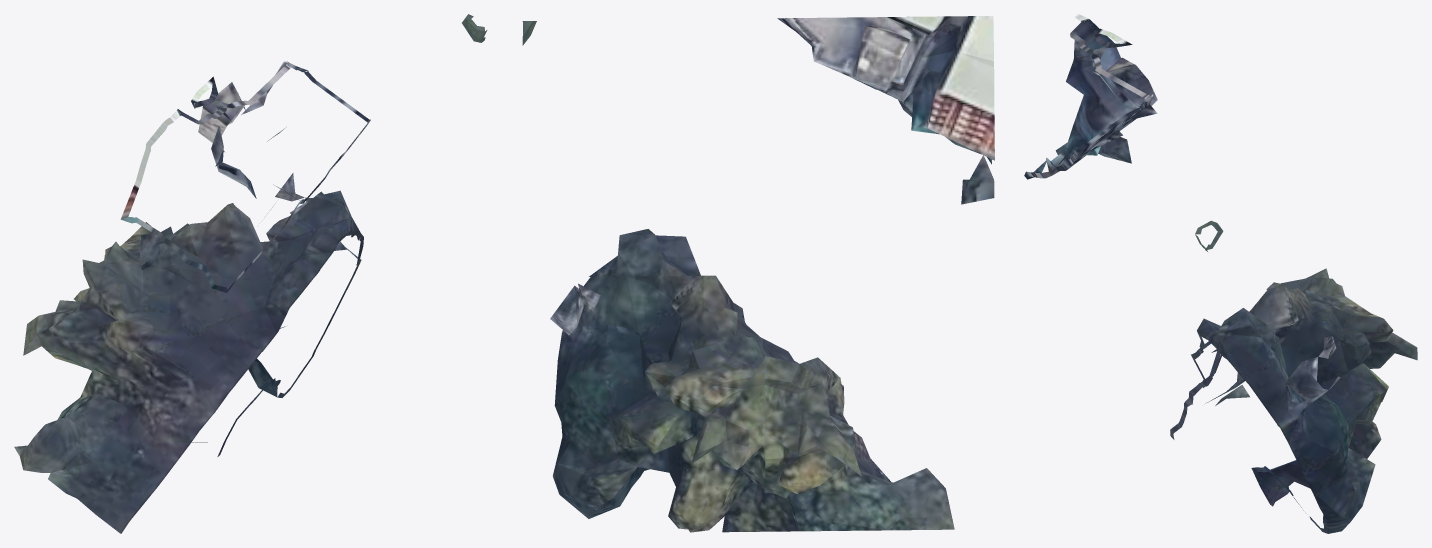
3 views of the same model, side by side, from view 1: azimuth 30°, elevation 25°; view 2: azimuth 150°, elevation 25°; view 3: azimuth 270°, elevation 25° (orthographic). The views are drawn at different scales.
Size of the model in its own units: 39.6 by 39.39 by 32.86.
Materials: 1 (1 with a texture image).
